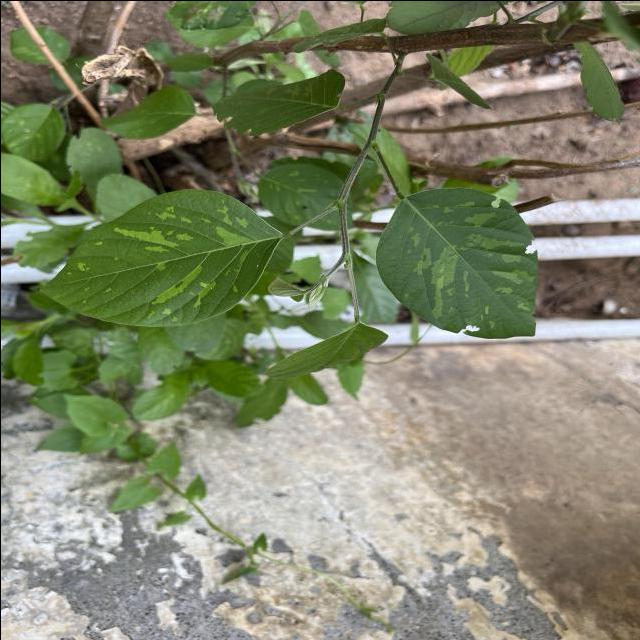Desmodium gangeticum: (35, 186, 284, 330), (371, 184, 543, 340)
